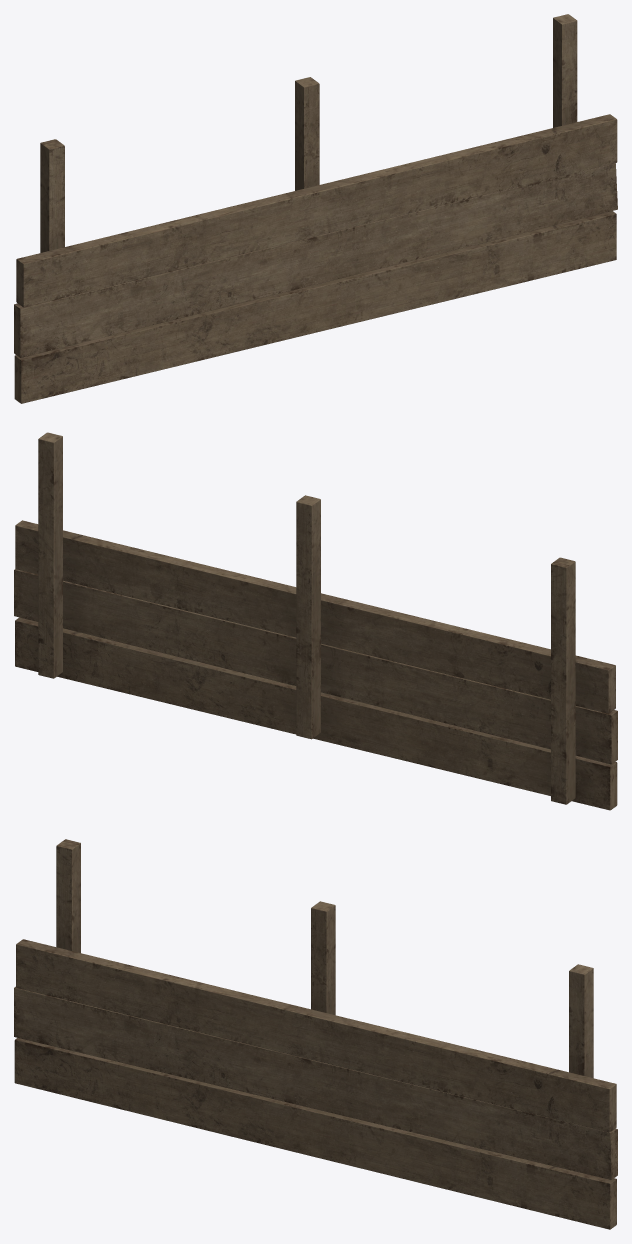
3 views of the same model, one above another, from view 1: azimuth 30°, elevation 25°; view 2: azimuth 150°, elevation 25°; view 3: azimuth 330°, elevation 25° (orthographic).
Parts seen in each view (by area): view 1: polySurface919; view 2: polySurface919; view 3: polySurface919.
Part boxes in pixels (left/top/right/bottom): polySurface919: left=14, top=14, right=617, bottom=403; polySurface919: left=14, top=432, right=617, bottom=810; polySurface919: left=14, top=839, right=617, bottom=1229.
Size of the model in its own units: 143 by 55.33 by 6.84.
Materials: 1 (1 with a texture image).
